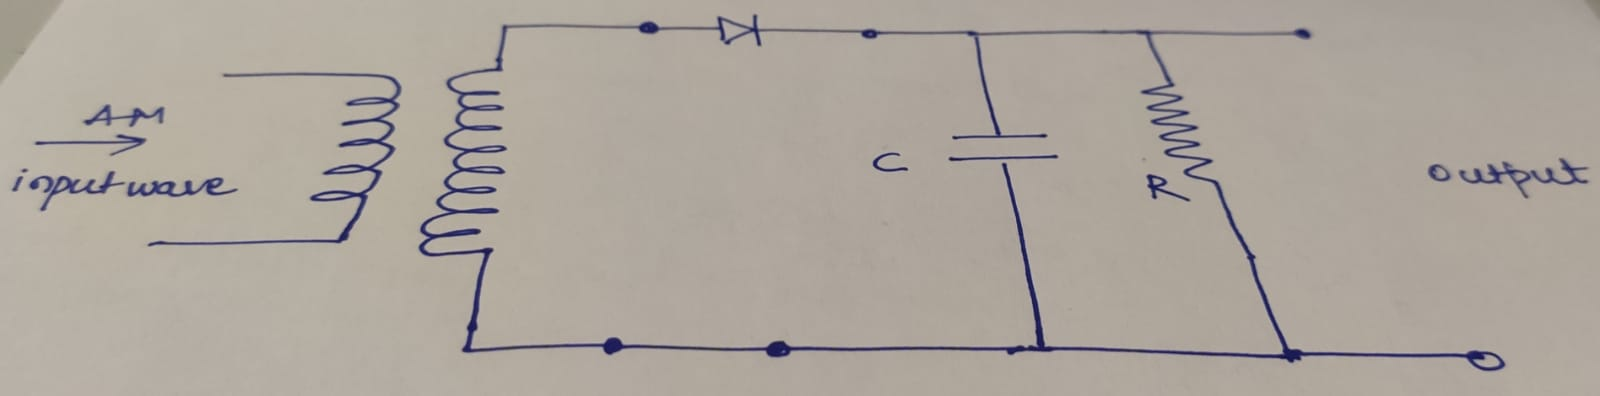capacitor.unpolarized: (946, 128, 1063, 167)
diode: (713, 12, 763, 49)
junction: (762, 337, 793, 363), (600, 333, 626, 361), (1276, 341, 1305, 362), (1029, 338, 1054, 361), (633, 18, 663, 38), (452, 338, 477, 361), (858, 23, 883, 46), (1136, 24, 1160, 45), (963, 27, 987, 46), (498, 19, 515, 37)
resistor: (1142, 79, 1220, 188)
terminal: (1456, 345, 1510, 372), (1286, 24, 1315, 44), (141, 235, 157, 254), (217, 67, 233, 86)
text: (5, 97, 239, 215), (1423, 151, 1593, 200), (1144, 174, 1194, 205), (869, 150, 908, 176)
transformer: (306, 60, 508, 259)
